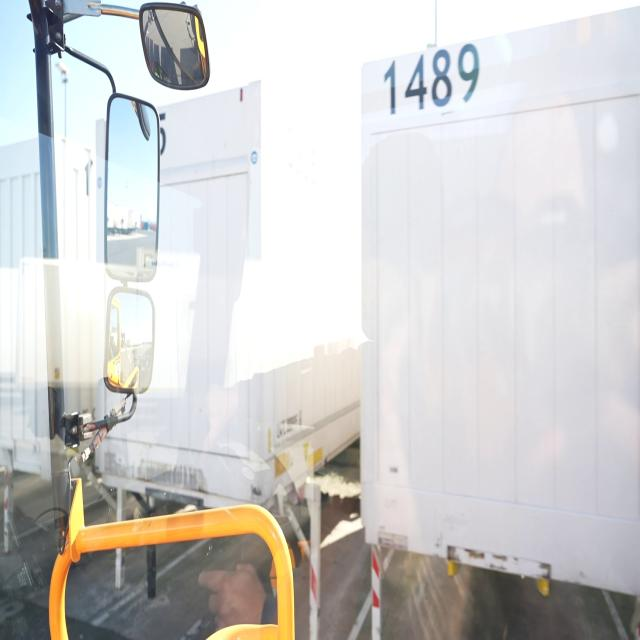Code: (380, 33, 480, 116)
